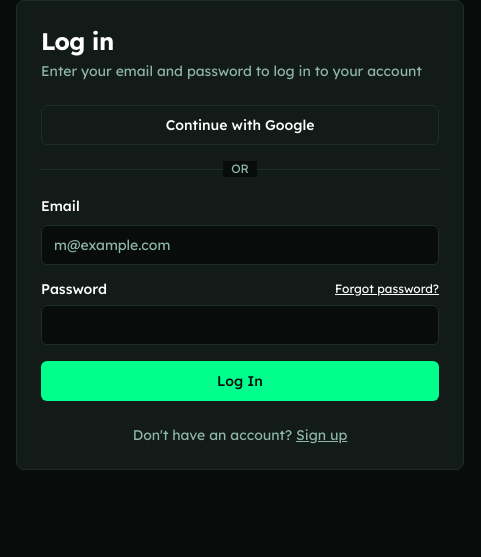
Test case: LoginForm › should display error message on login failure
Type "test@example.com" into the field labelled "Email".
click(240, 245); type("test@example.com")  # box [41,225,439,265]
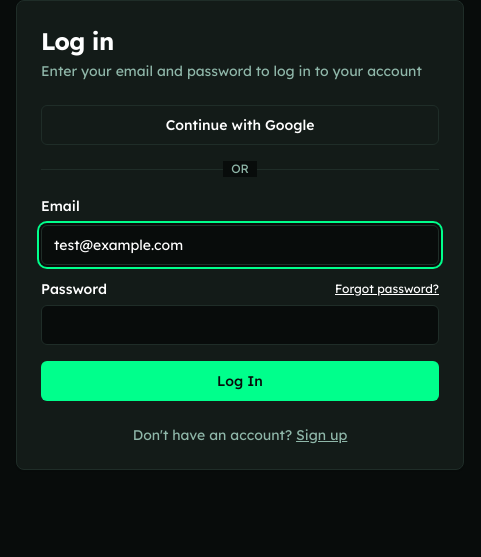
Type "wrongpassword" into the password field labelled "Password".
click(240, 325); type("wrongpassword")  # box [41,305,439,345]
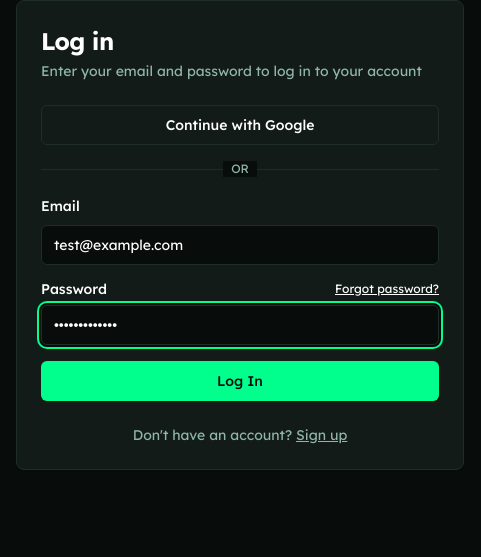
Click the button "Log In".
click(240, 381)  # box [41,361,439,401]
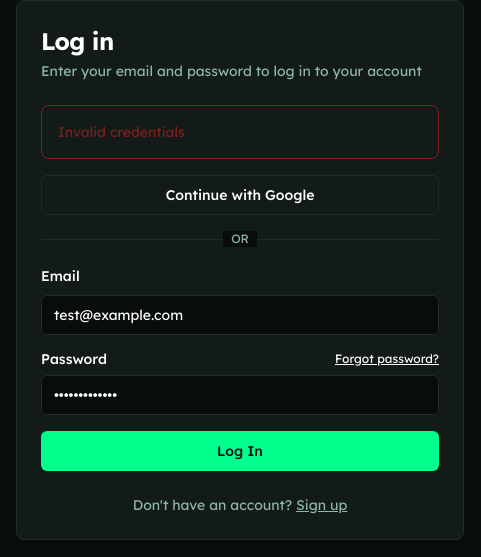
Expected: the text "Invalid credentials" is shown, [58,123,185,141]
